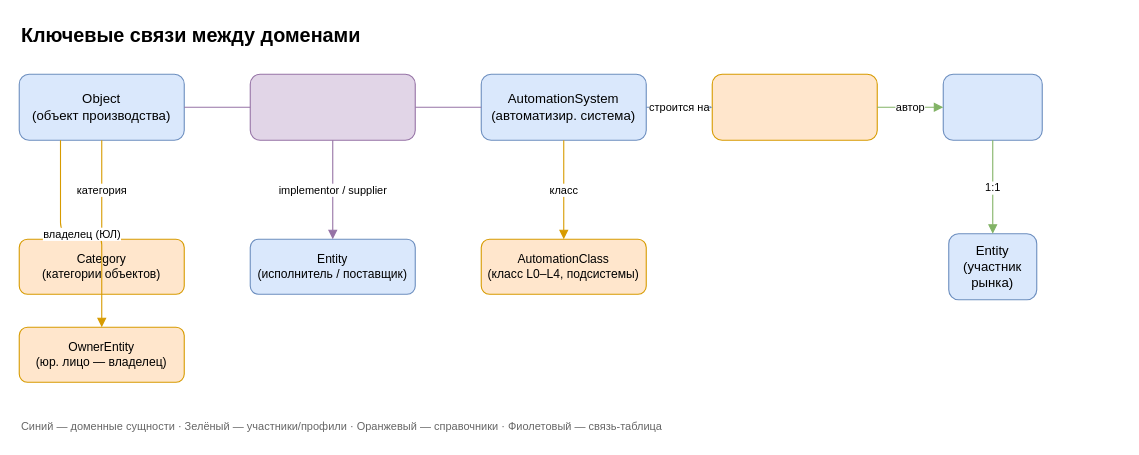
Image size: 1139x455. Some labels were removed from this diagram. Here are the shapes that lost their labels. From the top down, the box of each, then its label:
(249, 73, 415, 140): ObjectSystem (система на объекте: статус, дата)
(711, 73, 877, 140): VendorProduct (каталог продуктов)
(942, 73, 1042, 140): VendorProfile
